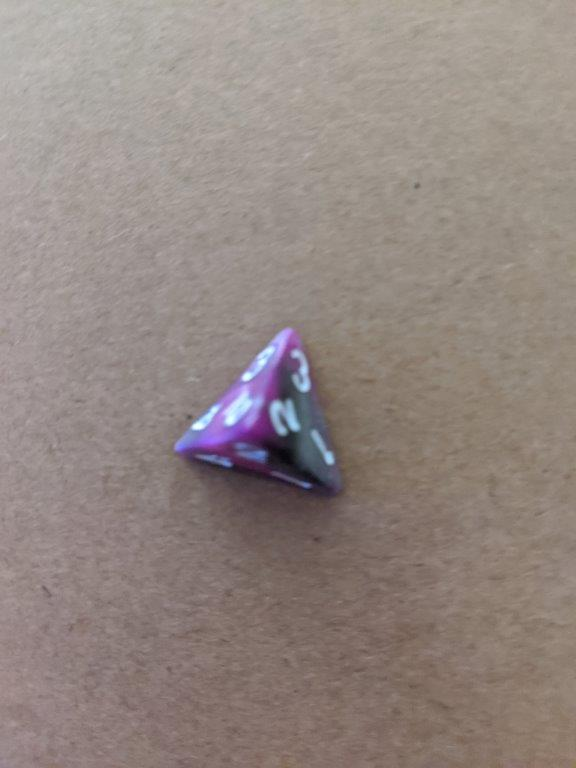d4-2: (162, 320, 355, 503)
